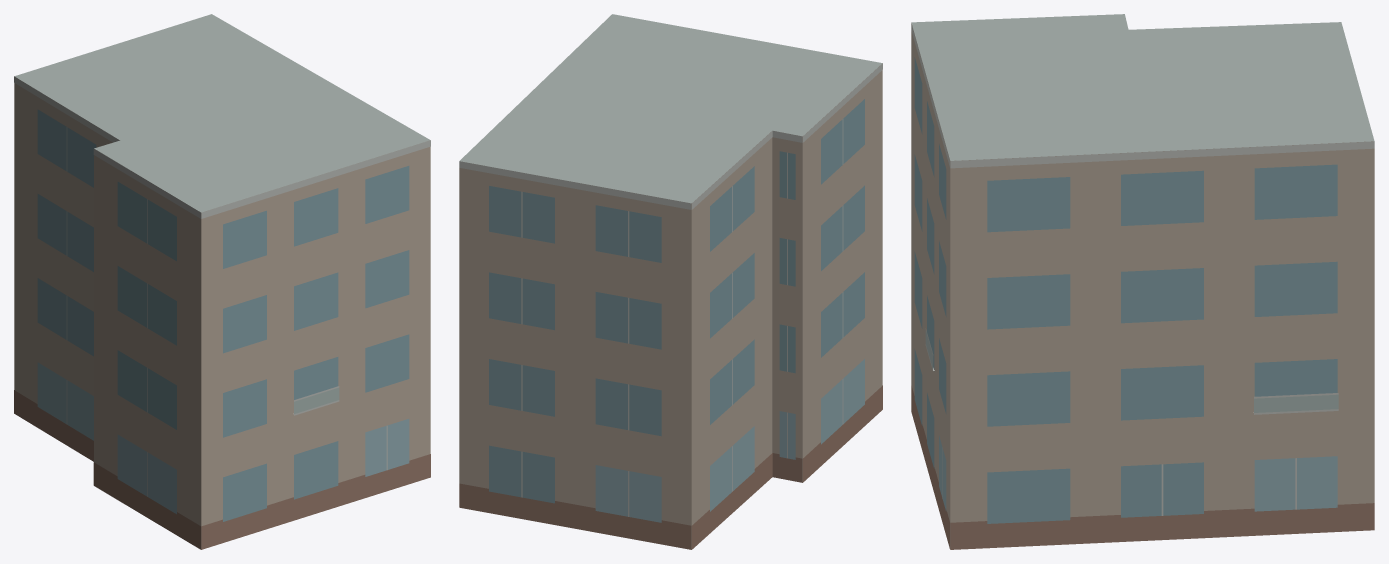
Rendered from survey-upis-32661203.glb.
The picture shows the model from 3 angles, left to right: view 1: azimuth 30°, elevation 25°; view 2: azimuth 150°, elevation 25°; view 3: azimuth 270°, elevation 25°; orthographic projection. The views are drawn at different scales.
Visible parts, largest first — view 1: survey-upis-32661203.tmp; view 2: survey-upis-32661203.tmp; view 3: survey-upis-32661203.tmp.
Boxes of the visible parts, x1,y1,x2,y2 form: survey-upis-32661203.tmp: (14,14,430,549); survey-upis-32661203.tmp: (459,14,882,549); survey-upis-32661203.tmp: (911,14,1374,549).
Bounding box in the file's own units: 10.38 × 12.8 × 13.83.
